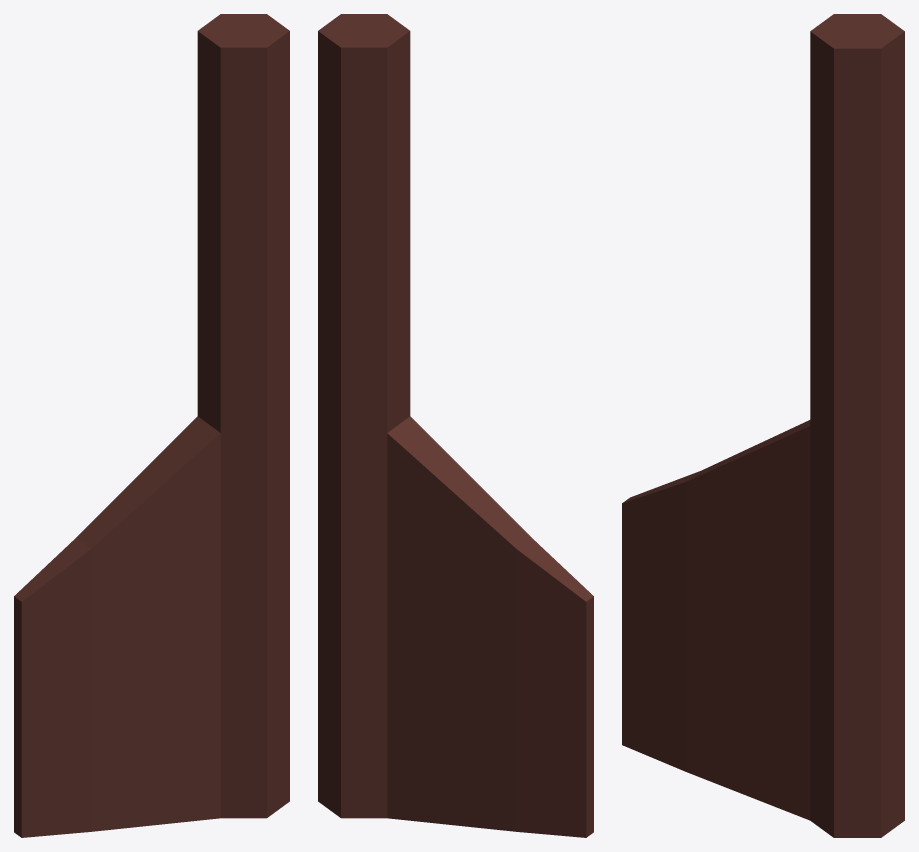
File: helm.fbx
3 renders of one model, left to right at view 1: azimuth 30°, elevation 25°; view 2: azimuth 150°, elevation 25°; view 3: azimuth 330°, elevation 25°, orthographic. The views are drawn at different scales.
Parts seen in each view (by area): view 1: helm; view 2: helm; view 3: helm.
Part boxes in pixels (x1,y1,x2,y2): helm: (14, 14, 289, 837); helm: (318, 14, 593, 837); helm: (622, 14, 904, 837).
Bounding box in the file's own units: 35.39 × 99.99 × 10.86.
